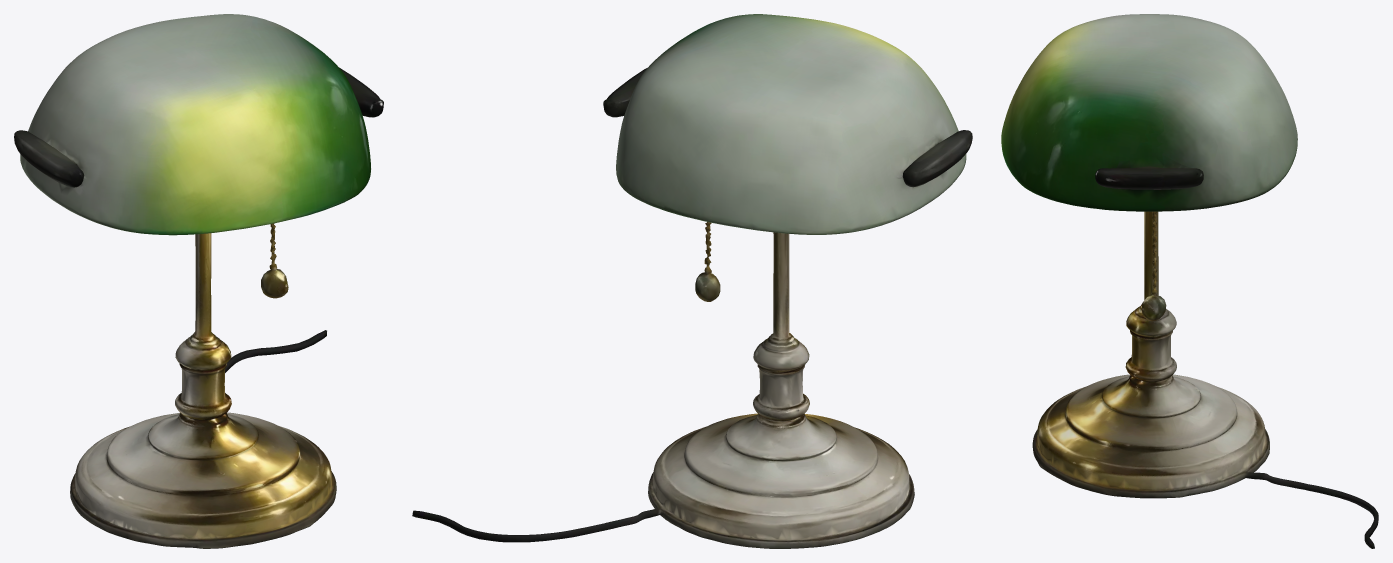
Rendered from lamp.glb.
3 renders of one model, left to right at view 1: azimuth 30°, elevation 25°; view 2: azimuth 150°, elevation 25°; view 3: azimuth 270°, elevation 25°, orthographic. The views are drawn at different scales.
Parts seen in each view (by area): view 1: tripo_node_1de4ff05-7bda-4d12-a2c8-8e1ceafdc82d; view 2: tripo_node_1de4ff05-7bda-4d12-a2c8-8e1ceafdc82d; view 3: tripo_node_1de4ff05-7bda-4d12-a2c8-8e1ceafdc82d.
Part boxes in pixels (bbox=[...]): tripo_node_1de4ff05-7bda-4d12-a2c8-8e1ceafdc82d: bbox=[14, 14, 383, 548]; tripo_node_1de4ff05-7bda-4d12-a2c8-8e1ceafdc82d: bbox=[412, 14, 972, 548]; tripo_node_1de4ff05-7bda-4d12-a2c8-8e1ceafdc82d: bbox=[1001, 14, 1378, 548].
Bounding box in the file's own units: 0.9818 × 1 × 0.8543.
1 material, 1 textured.
